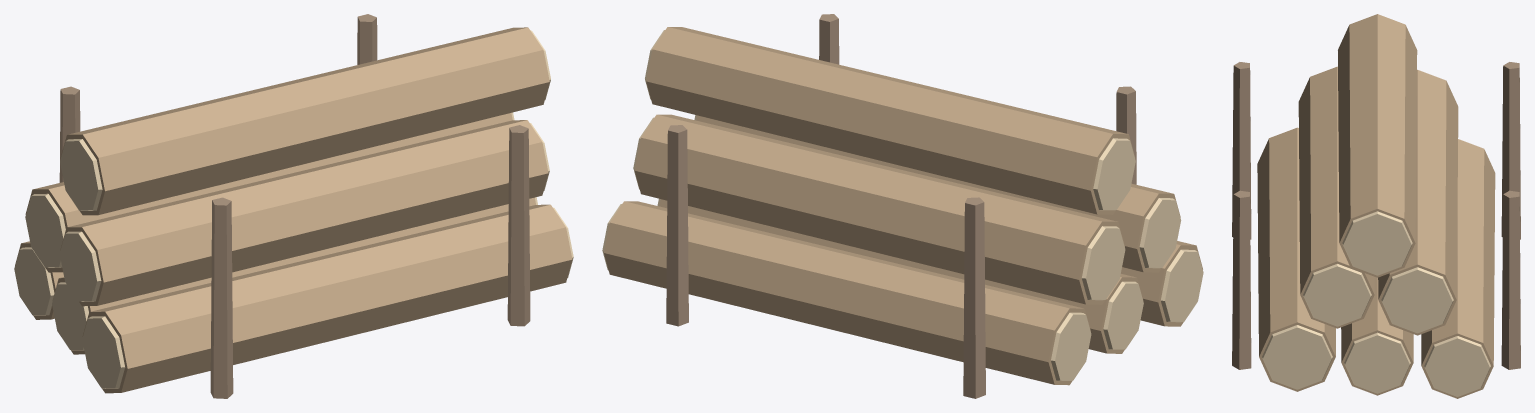
The model's file is log-pile.glb.
3 renders of one model, left to right at view 1: azimuth 30°, elevation 25°; view 2: azimuth 150°, elevation 25°; view 3: azimuth 270°, elevation 25°, orthographic. The views are drawn at different scales.
Visible parts, largest first — view 1: log-pile; view 2: log-pile; view 3: log-pile.
Part boxes in pixels (x1,y1,x2,y2): log-pile: (14,14,573,398); log-pile: (602,14,1203,398); log-pile: (1232,14,1520,398).
Size of the model in its own units: 1.6 by 0.7085 by 0.9473.
